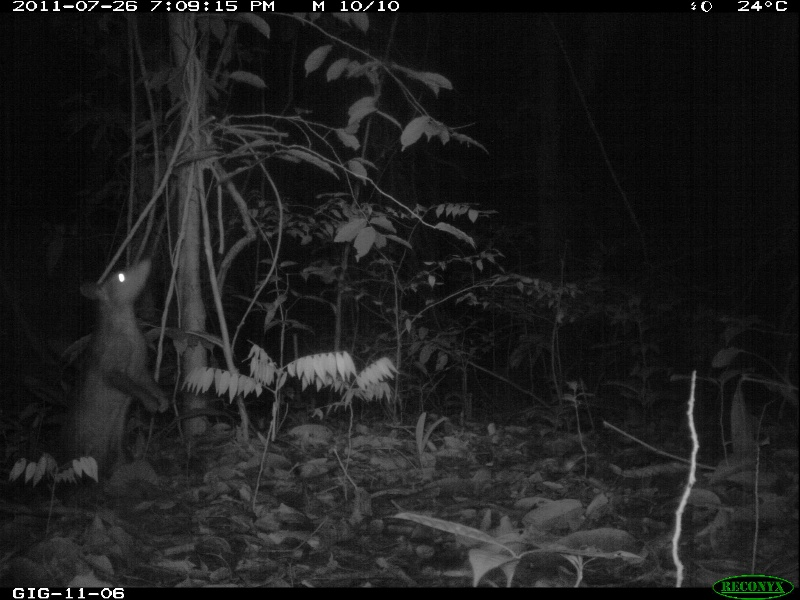opossum: (60, 253, 167, 470)
